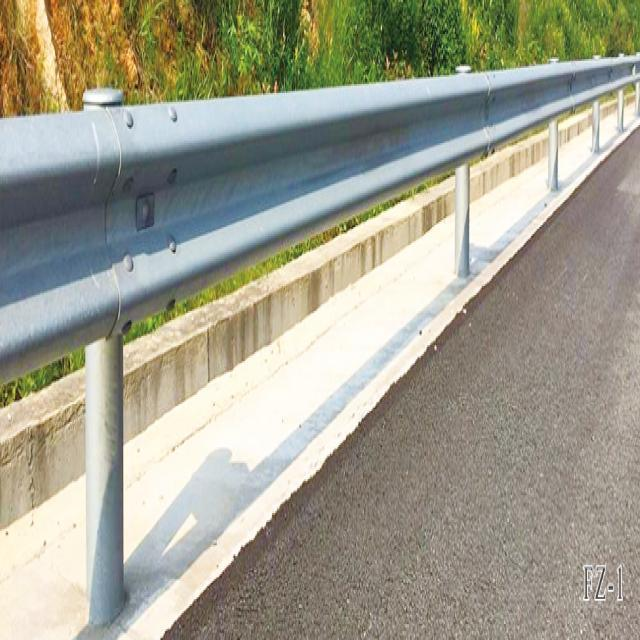Guard rail: (0, 54, 640, 377)
